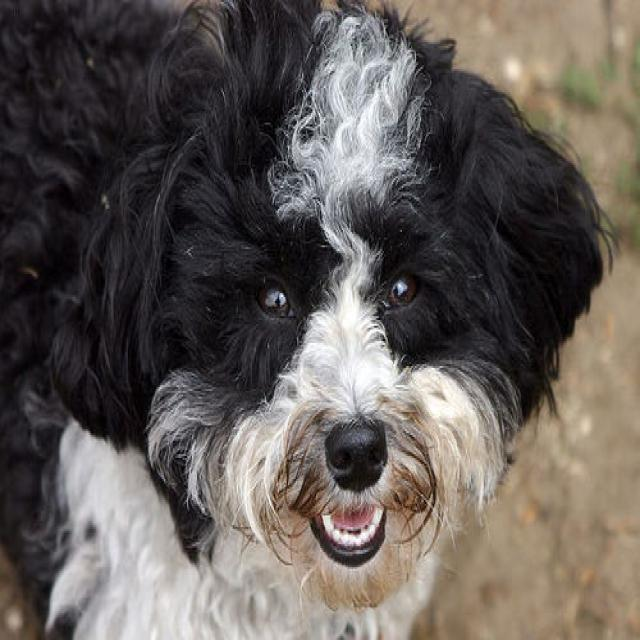dog-havanese: (1, 2, 628, 636)
